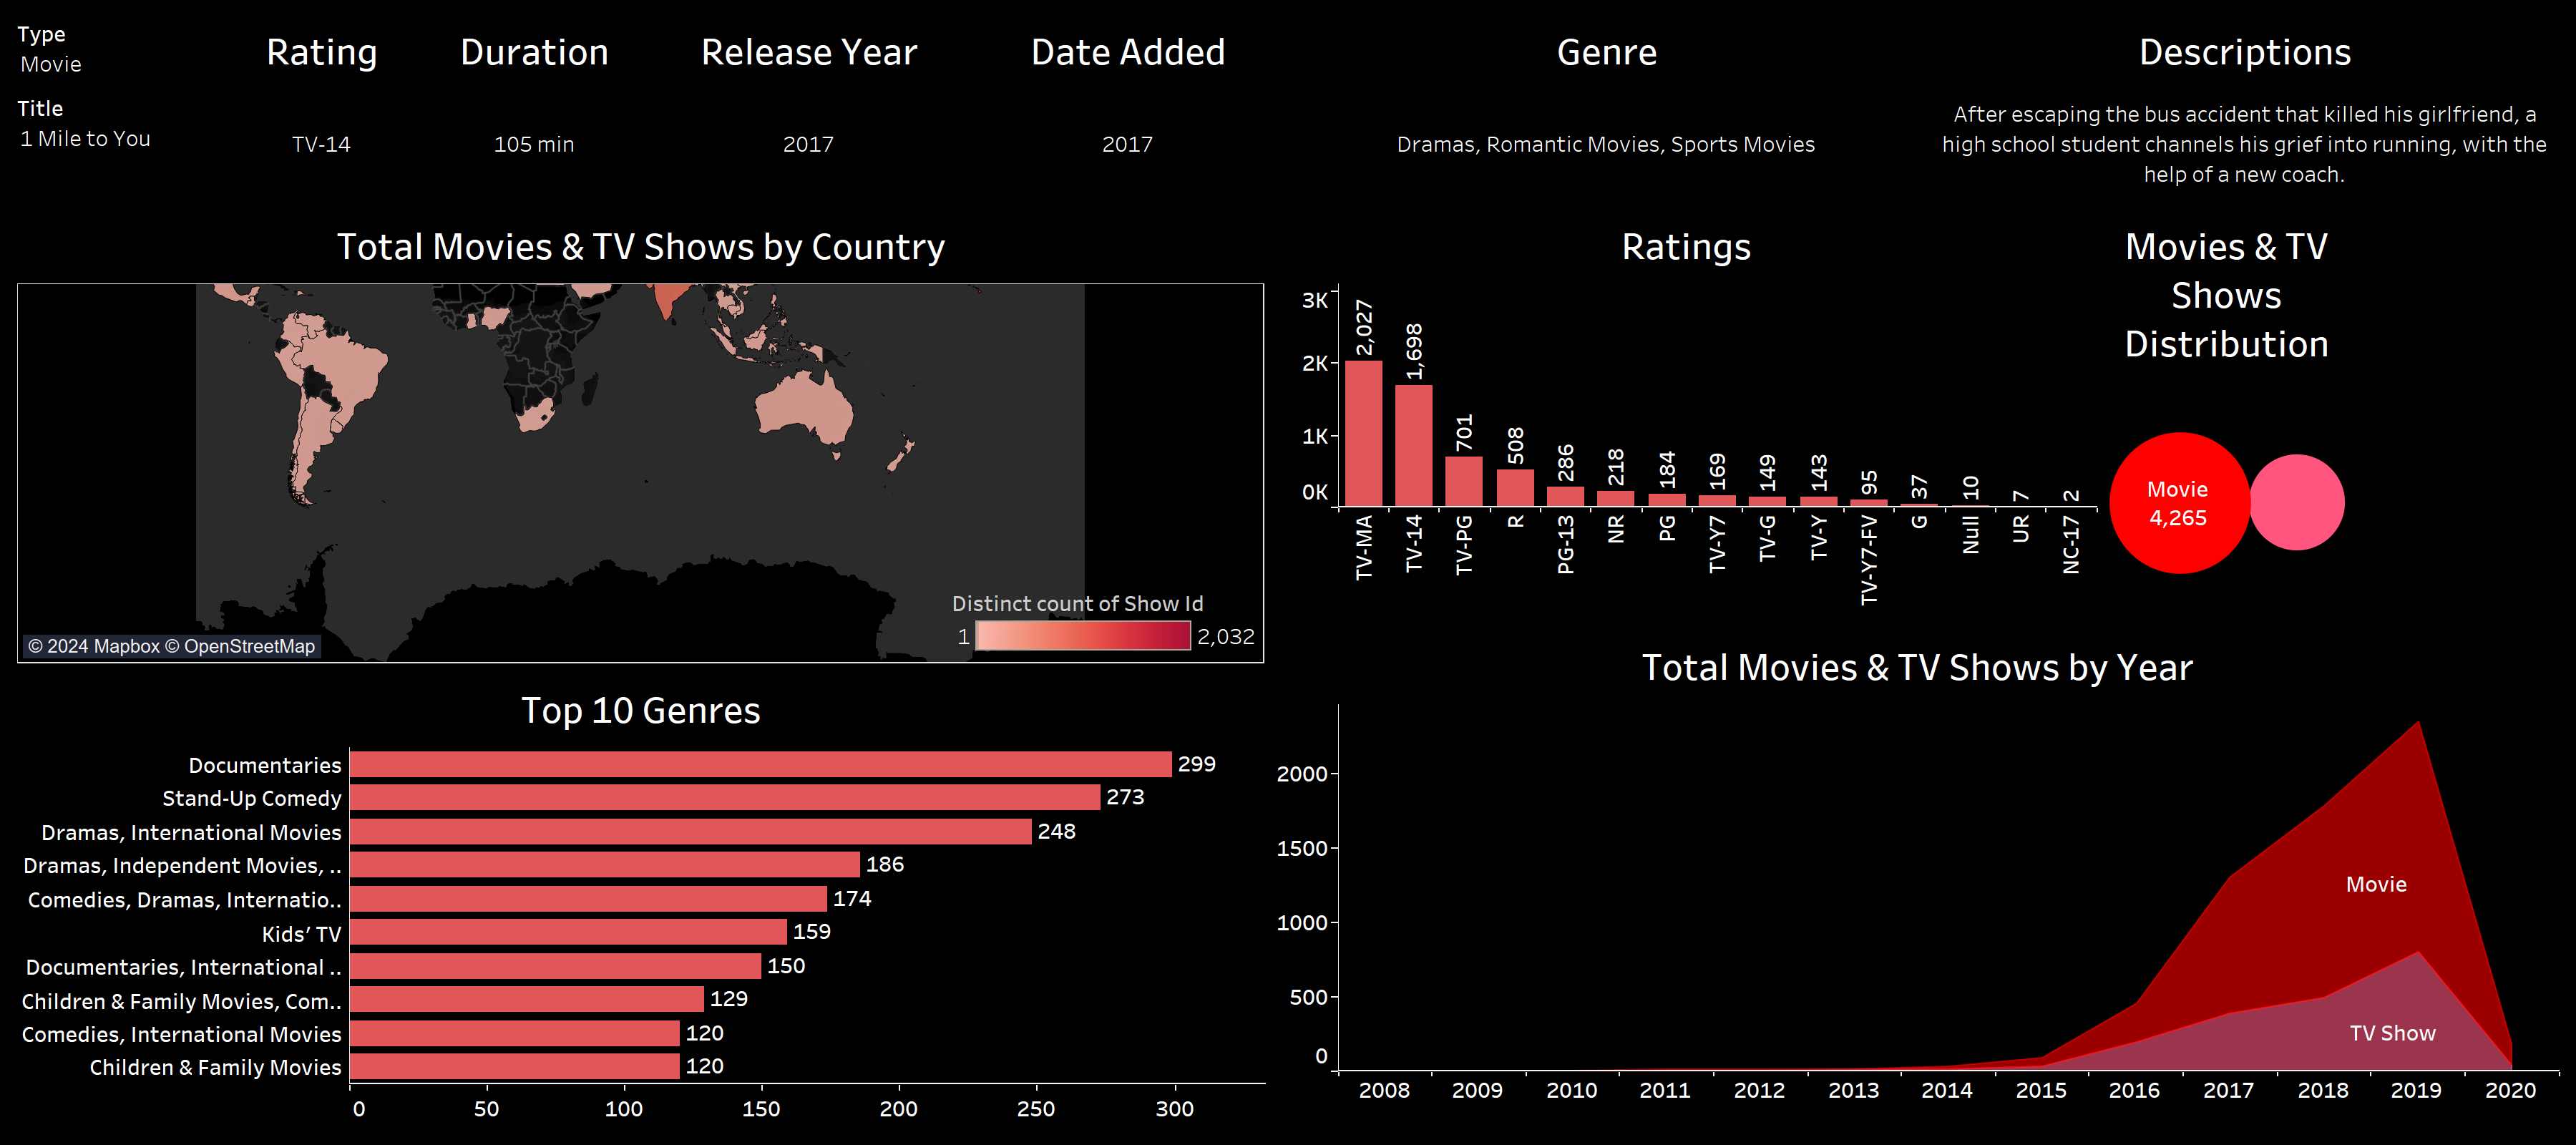

Layout of this report page (visuals, bound fields, positions):
{"tool":"tableau","page":{"name":"Netflix","canvas":[1800,800],"ordinal":0},"visuals":[{"type":"filter","title":"Descriptions","param":"[federated.14mlac01o10aw315jtgl315hcsgf].[none:type:nk]","box":[8,8,149,52]},{"type":"worksheet","title":"Rating","mark":"Automatic","box":[157,8,136,136]},{"type":"worksheet","title":"Duration","mark":"Automatic","box":[293,8,161,136]},{"type":"worksheet","title":"Release Year","mark":"Automatic","box":[454,8,223,136]},{"type":"worksheet","title":"Date Added","mark":"Automatic","box":[677,8,223,136]},{"type":"worksheet","title":"Genre","mark":"Automatic","box":[900,8,446,136]},{"type":"worksheet","title":"Descriptions","mark":"Automatic","box":[1346,8,446,136]},{"type":"filter","title":"Descriptions","param":"[federated.14mlac01o10aw315jtgl315hcsgf].[none:title:nk]","box":[8,60,149,84]},{"type":"worksheet","title":"Total Movies & TV Shows by Country","mark":"Multipolygon","box":[8,144,880.2,324]},{"type":"worksheet","title":"Ratings","mark":"Automatic","rows":["show_id"],"cols":["rating"],"box":[888.2,144,580.8,294.2]},{"type":"worksheet","title":"Movies & TV Shows Distribution","mark":"Circle","box":[1469,144,323,294.2]},{"type":"legend","title":"Total Movies & TV Shows by Country","param":"[federated.14mlac01o10aw315jtgl315hcsgf].[ctd:show_id:qk]","box":[665,407,217,54]},{"type":"worksheet","title":"Total Movies & TV Shows by Year","mark":"Area","rows":["show_id"],"cols":["date_added"],"box":[888.2,438.2,903.9,353.8]},{"type":"worksheet","title":"Top 10 Genres","mark":"Automatic","rows":["listed_in"],"cols":["show_id"],"box":[8,468,880.2,324]}]}

Visuals, with their boxes in screenshot pixels (x1, y1, x2, y2), scaled from the page's 1800x800 canvas onto the 2576x1145 screenshot:
"Descriptions" filter: locate(11, 11, 225, 86)
"Rating" worksheet: locate(225, 11, 419, 206)
"Duration" worksheet: locate(419, 11, 650, 206)
"Release Year" worksheet: locate(650, 11, 969, 206)
"Date Added" worksheet: locate(969, 11, 1288, 206)
"Genre" worksheet: locate(1288, 11, 1926, 206)
"Descriptions" worksheet: locate(1926, 11, 2565, 206)
"Descriptions" filter: locate(11, 86, 225, 206)
"Total Movies & TV Shows by Country" worksheet (Multipolygon marks): locate(11, 206, 1271, 670)
"Ratings" worksheet: locate(1271, 206, 2102, 627)
"Movies & TV Shows Distribution" worksheet (Circle marks): locate(2102, 206, 2565, 627)
"Total Movies & TV Shows by Country" legend: locate(952, 583, 1262, 660)
"Total Movies & TV Shows by Year" worksheet (Area marks): locate(1271, 627, 2565, 1134)
"Top 10 Genres" worksheet: locate(11, 670, 1271, 1134)
